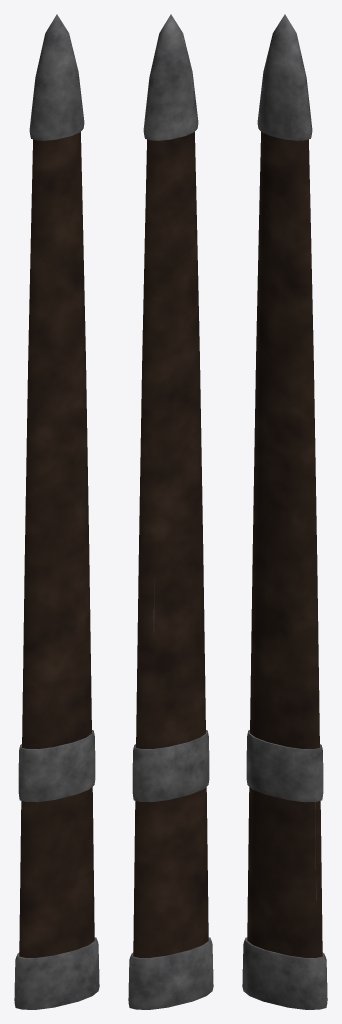
File: StarterLongswordScabbard.fbx
3 views of the same model, side by side, from view 1: azimuth 30°, elevation 25°; view 2: azimuth 210°, elevation 25°; view 3: azimuth 330°, elevation 25° (orthographic).
Parts seen in each view (by area): view 1: ScabbardBody, ScabbardFittings; view 2: ScabbardBody, ScabbardFittings; view 3: ScabbardBody, ScabbardFittings.
Boxes of the visible parts, left/top/right/bottom form: ScabbardBody: left=19, top=132, right=94, bottom=957; ScabbardFittings: left=14, top=14, right=99, bottom=1009; ScabbardBody: left=133, top=132, right=208, bottom=957; ScabbardFittings: left=128, top=14, right=213, bottom=1009; ScabbardBody: left=247, top=132, right=322, bottom=957; ScabbardFittings: left=242, top=14, right=327, bottom=1009.
Bounding box in the file's own units: 0.306 × 3.41 × 0.1222.
1 material, 1 textured.
